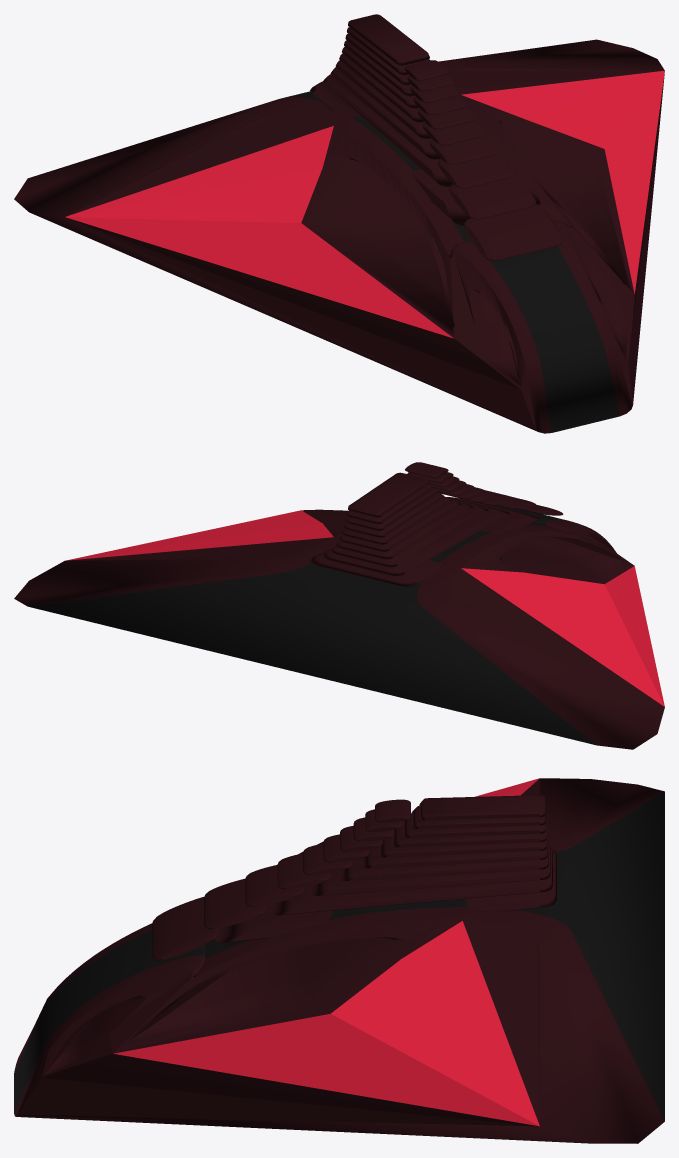
Rendered from enemy-grunt.fbx.
3 renders of one model, top to bottom at view 1: azimuth 30°, elevation 25°; view 2: azimuth 150°, elevation 25°; view 3: azimuth 270°, elevation 25°, orthographic. The views are drawn at different scales.
Parts seen in each view (by area): view 1: Text; view 2: Text; view 3: Text.
Part boxes in pixels (x1,y1,x2,y2): Text: [14, 14, 664, 433]; Text: [14, 462, 664, 749]; Text: [14, 778, 664, 1143].
Size of the model in its own units: 454 by 168 by 343.
